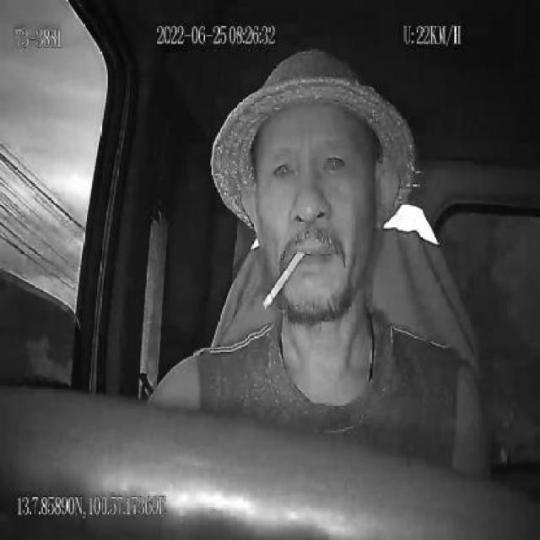smoking: (260, 244, 304, 310)
